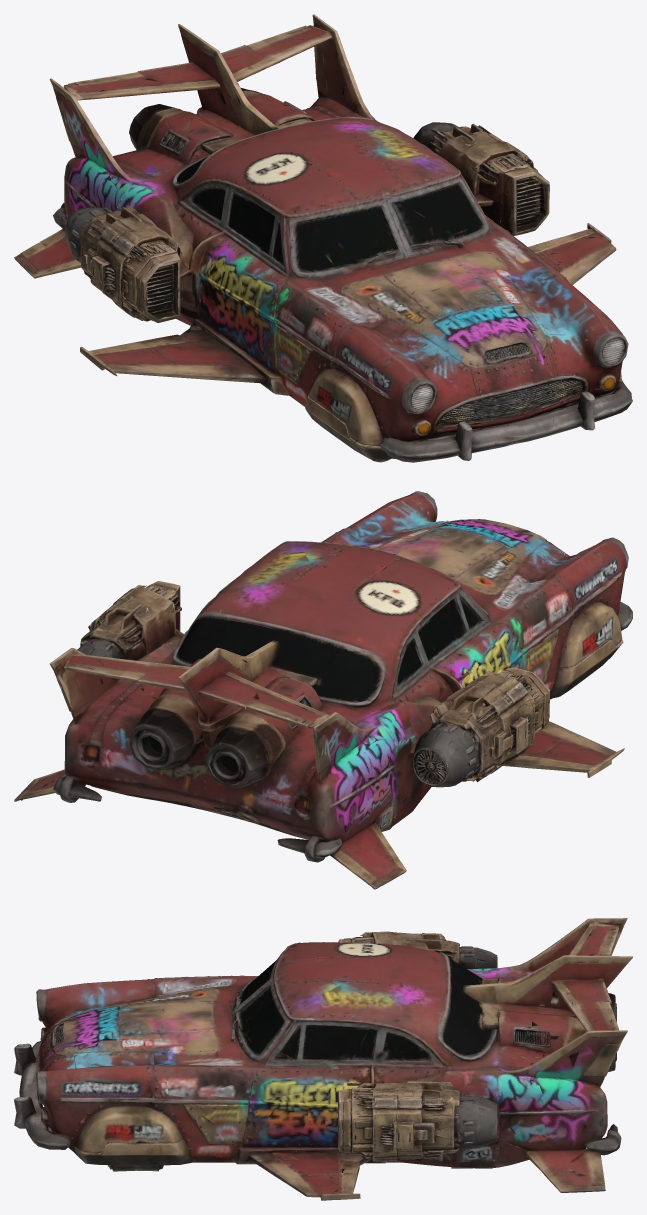
The model's file is street_racer_hoverbeast_browser.v2.glb.
3 renders of one model, top to bottom at view 1: azimuth 30°, elevation 25°; view 2: azimuth 150°, elevation 25°; view 3: azimuth 270°, elevation 25°, orthographic. The views are drawn at different scales.
Visible parts, largest first — view 1: street_racer_hoverbeast; view 2: street_racer_hoverbeast; view 3: street_racer_hoverbeast.
Boxes of the visible parts, bbox=[...] form: street_racer_hoverbeast: bbox=[14, 14, 632, 462]; street_racer_hoverbeast: bbox=[14, 491, 632, 889]; street_racer_hoverbeast: bbox=[14, 918, 632, 1200].
Size of the model in its own units: 8.97 by 3.36 by 10.77.
1 material, 1 textured.
